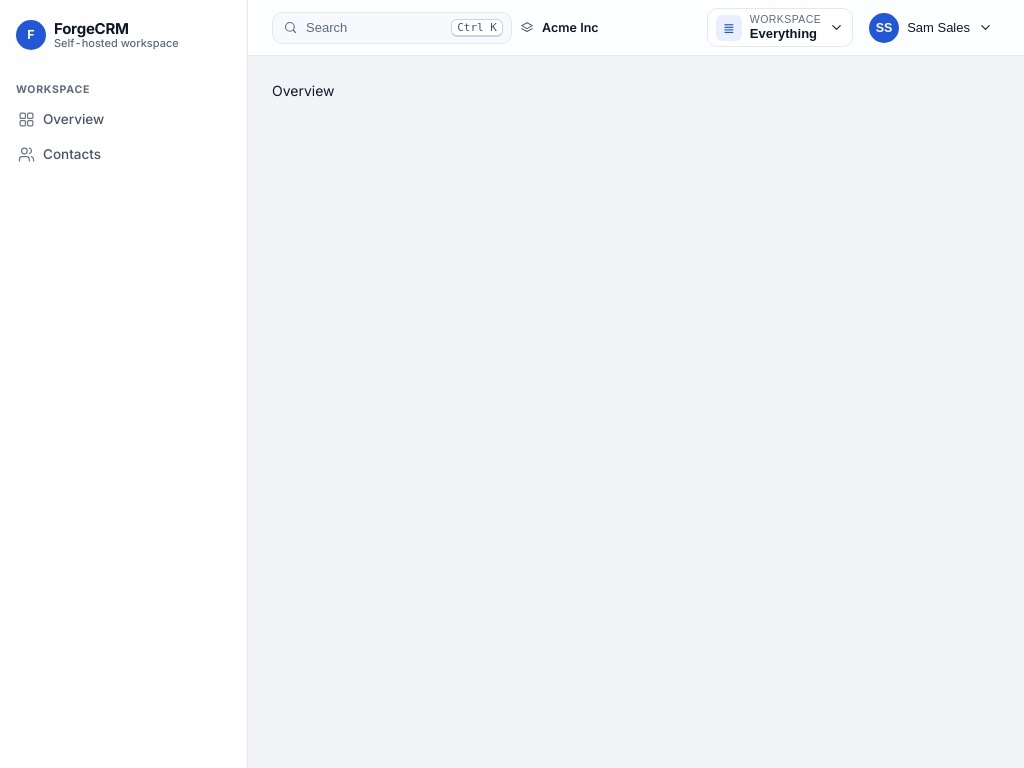
Test: AppShell accessibility › does not expose the account popover as an ARIA menu
The width and height of the screenshot is (1024, 768).
Click the button with aria-label "my account".
click(933, 28)  # box [865,8,1000,46]
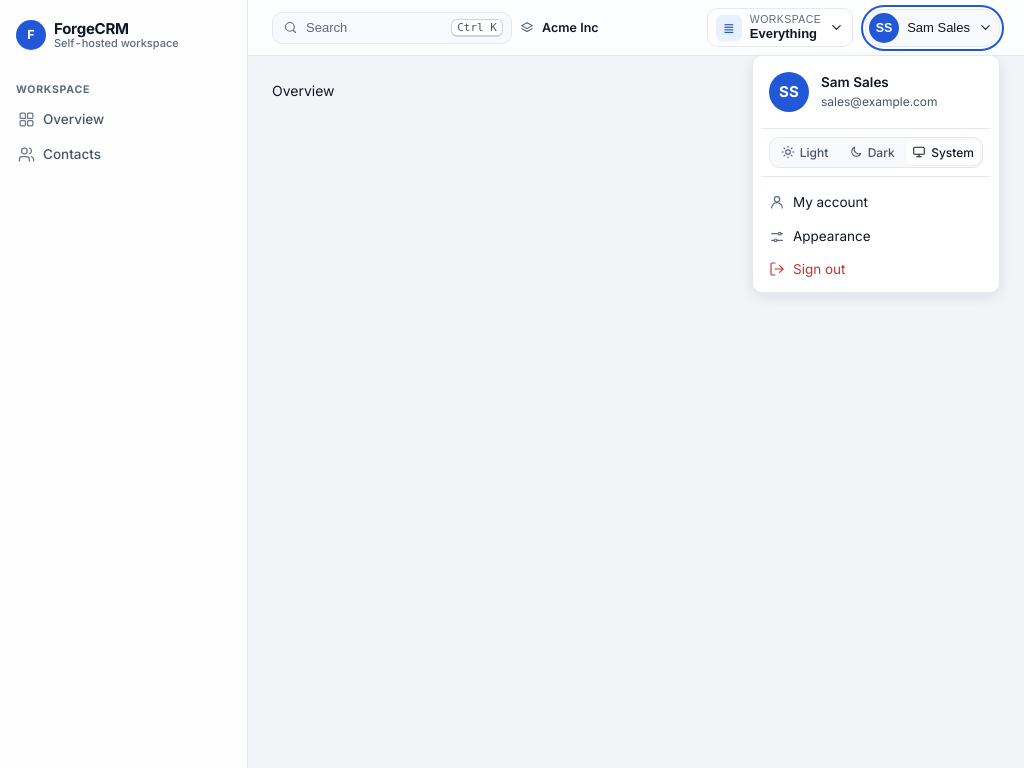
Expected: the button "Sign out" is shown, [761,254,991,284]
